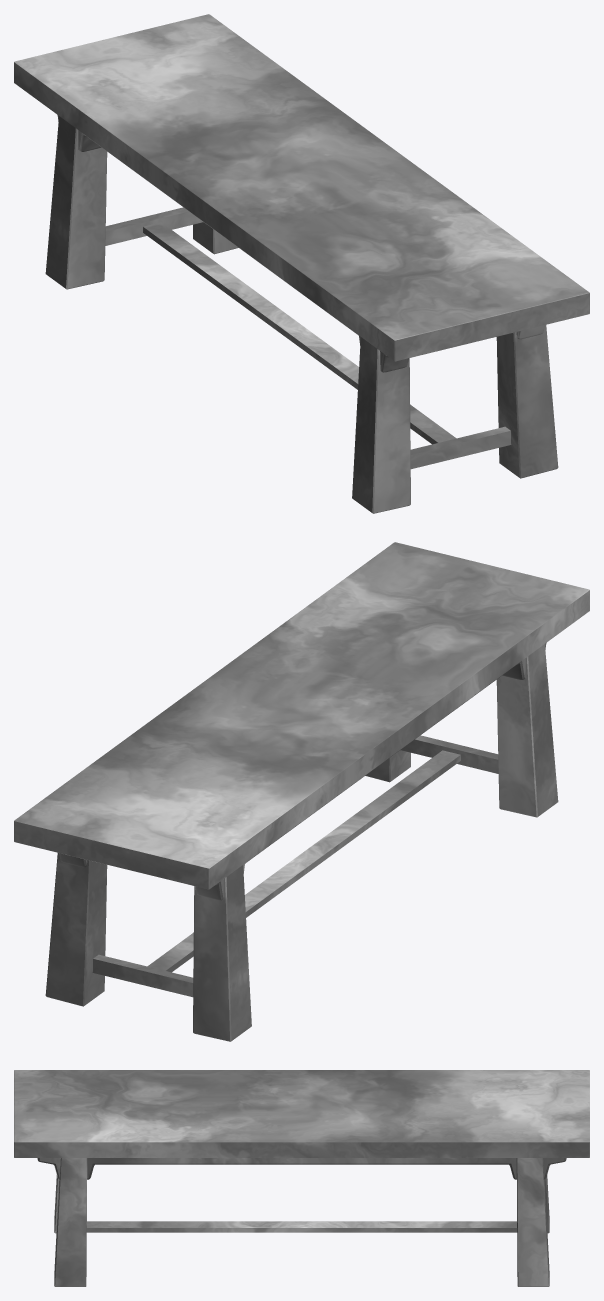
File: SM_bench_02.fbx
3 views of the same model, one above another, from view 1: azimuth 30°, elevation 25°; view 2: azimuth 150°, elevation 25°; view 3: azimuth 270°, elevation 25° (orthographic). The views are drawn at different scales.
Visible parts, largest first — view 1: SM_bench_02; view 2: SM_bench_02; view 3: SM_bench_02.
Part boxes in pixels (x1,y1,x2,y2): SM_bench_02: [14, 14, 589, 513]; SM_bench_02: [14, 542, 589, 1041]; SM_bench_02: [14, 1070, 589, 1286].
Bounding box in the file's own units: 55.86 × 188 × 53.35.
Materials: 1 (1 with a texture image).
